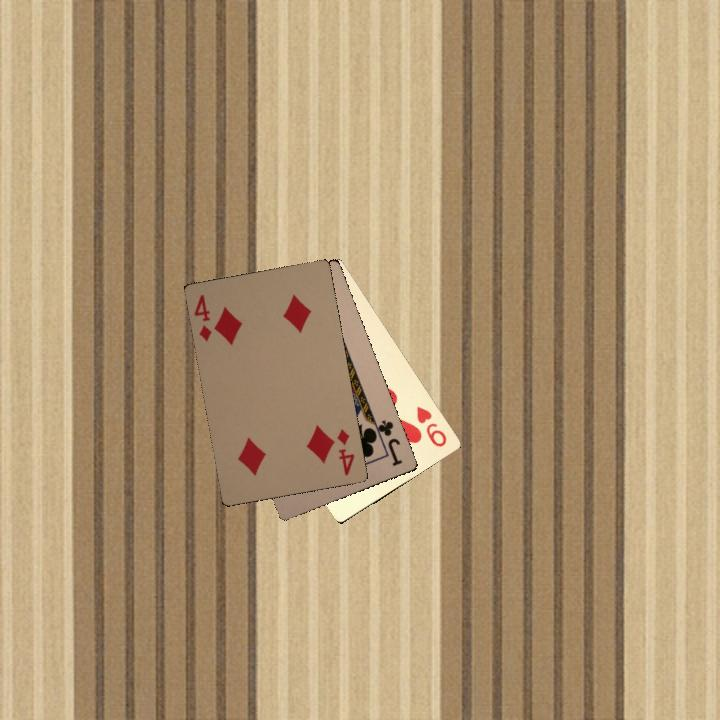4d: (333, 425, 358, 478), (190, 290, 214, 343)
9h: (412, 402, 449, 450)
Jc: (369, 415, 405, 469)
